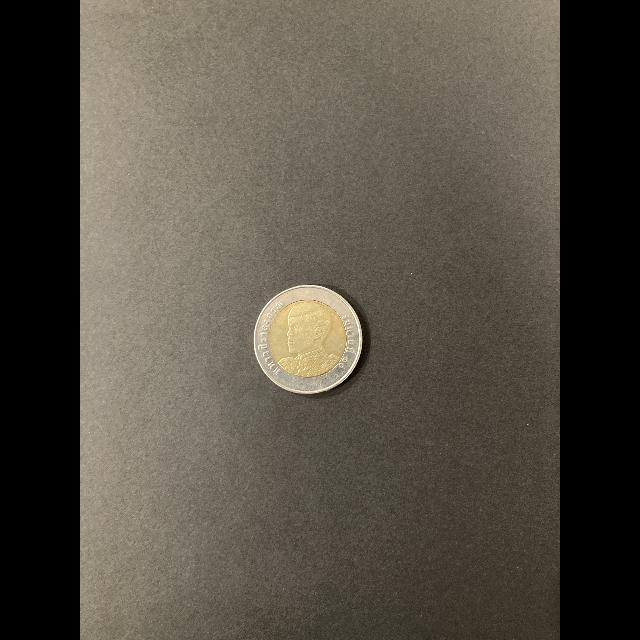10 Bath: (254, 283, 368, 398)
